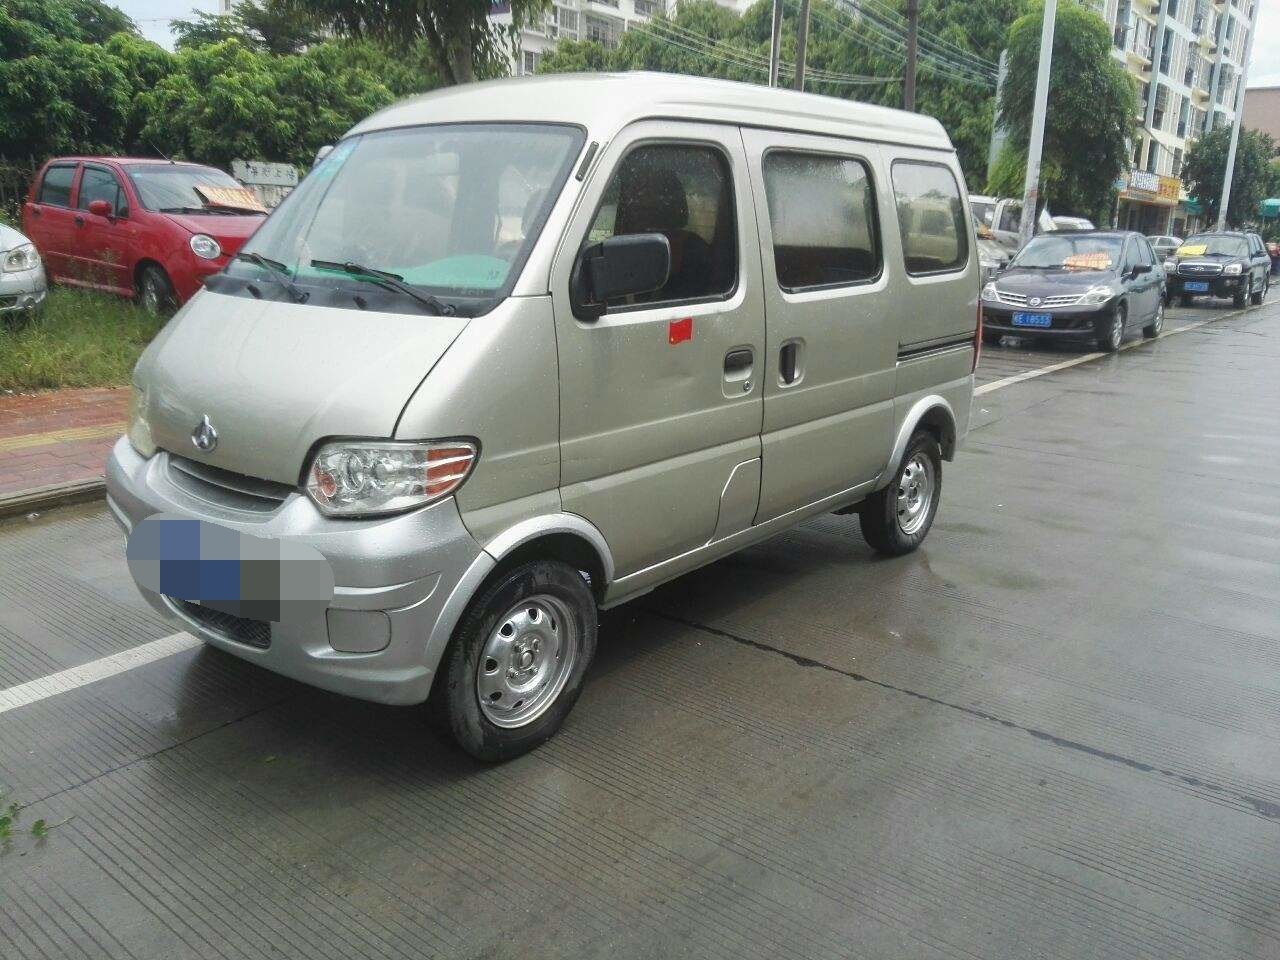family sedan: (32, 145, 269, 313), (985, 204, 1174, 362), (1158, 224, 1272, 313)
minibus: (154, 78, 1000, 715)
